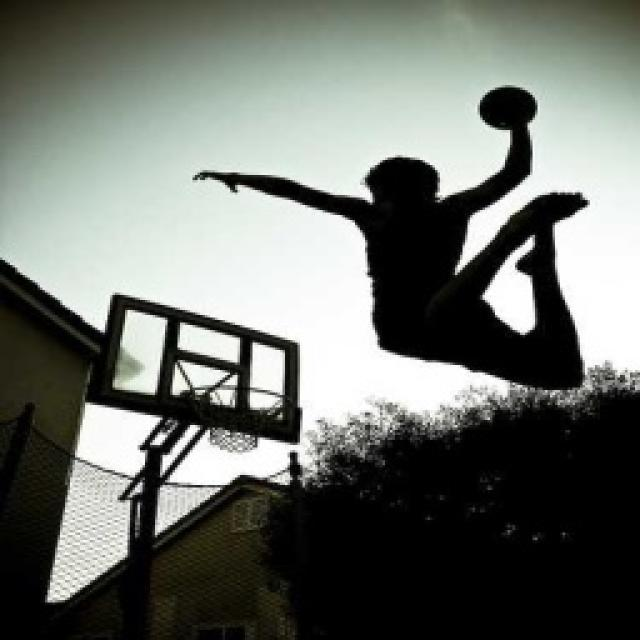rim: (476, 85, 540, 132)
